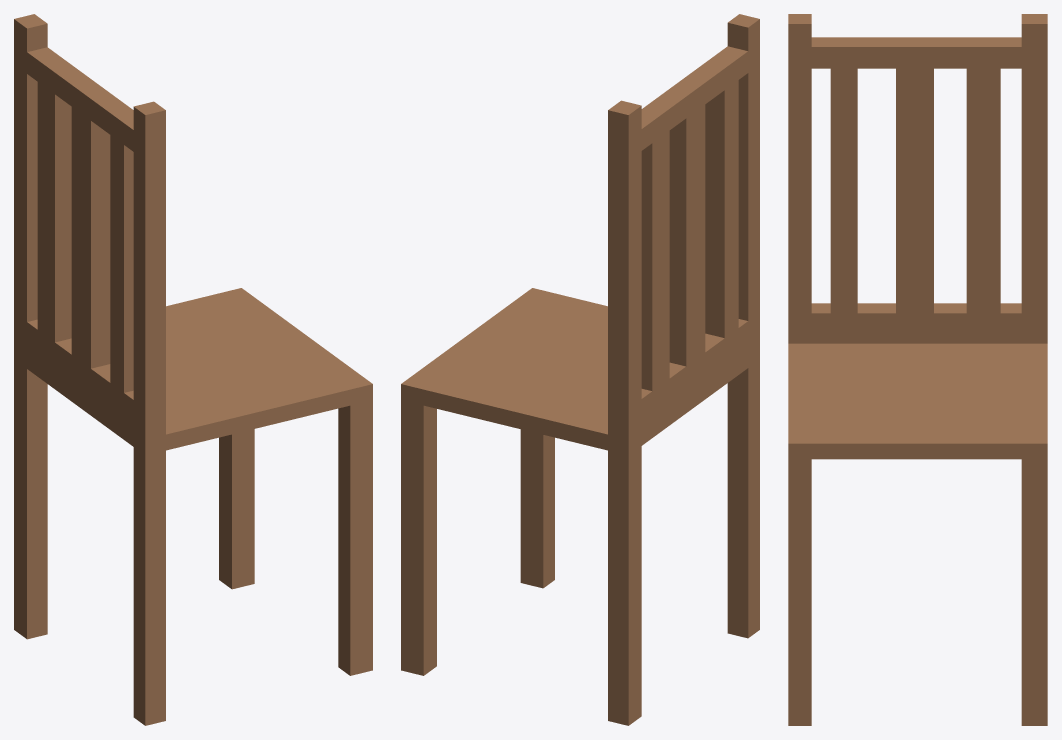
File: Chair.fbx
The picture shows the model from 3 angles, left to right: view 1: azimuth 30°, elevation 25°; view 2: azimuth 150°, elevation 25°; view 3: azimuth 270°, elevation 25°; orthographic projection.
Visible parts, largest first — view 1: pCube16; view 2: pCube16; view 3: pCube16.
Boxes of the visible parts, left/top/right/bottom form: pCube16: left=14, top=14, right=372, bottom=725; pCube16: left=401, top=14, right=759, bottom=725; pCube16: left=788, top=14, right=1047, bottom=725.
Bounding box in the file's own units: 0.5 × 1.28 × 0.5.
